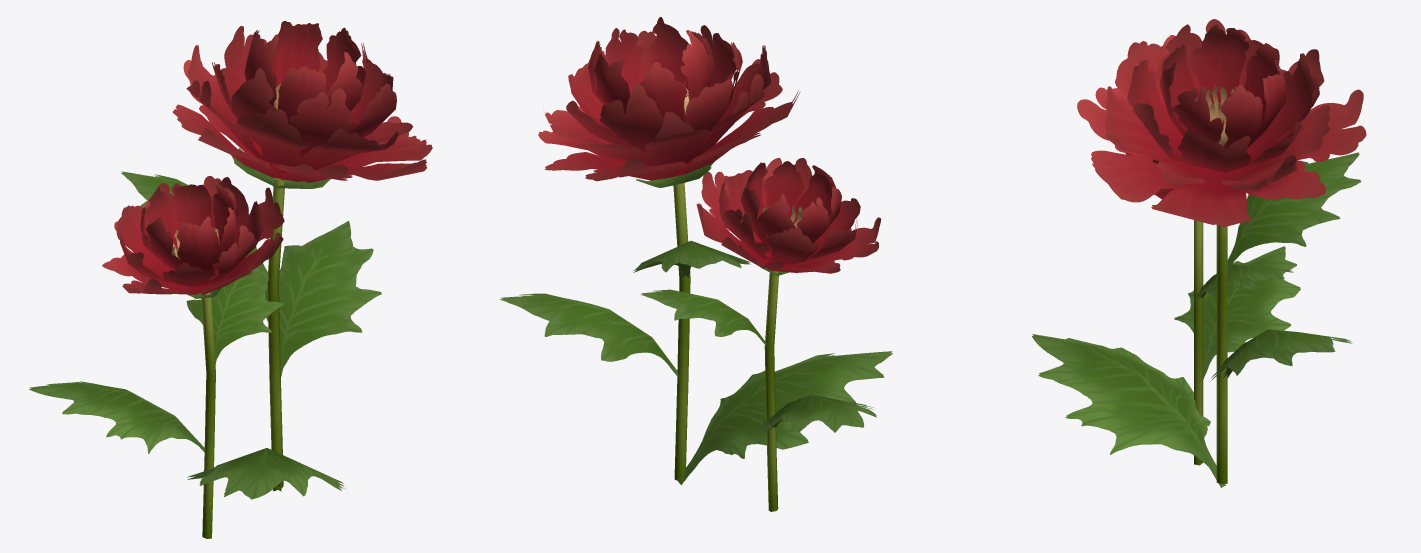
3 renders of one model, left to right at view 1: azimuth 30°, elevation 25°; view 2: azimuth 150°, elevation 25°; view 3: azimuth 270°, elevation 25°, orthographic.
Visible parts, largest first — view 1: eaee5c91; view 2: eaee5c91; view 3: eaee5c91.
Part boxes in pixels (x1,y1,x2,y2): eaee5c91: (29, 21, 432, 538); eaee5c91: (500, 17, 892, 511); eaee5c91: (1032, 19, 1366, 487).
Bounding box in the file's own units: 0.1045 × 0.1139 × 0.0924.
Materials: 1 (1 with a texture image).
